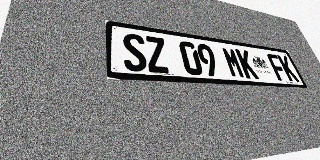0: (178, 40, 204, 76)
9: (195, 43, 221, 77)
F: (266, 53, 289, 81)
K: (235, 49, 259, 79), (277, 55, 299, 82)
M: (221, 47, 246, 78)
S: (122, 32, 148, 72)
Z: (144, 35, 170, 74)
